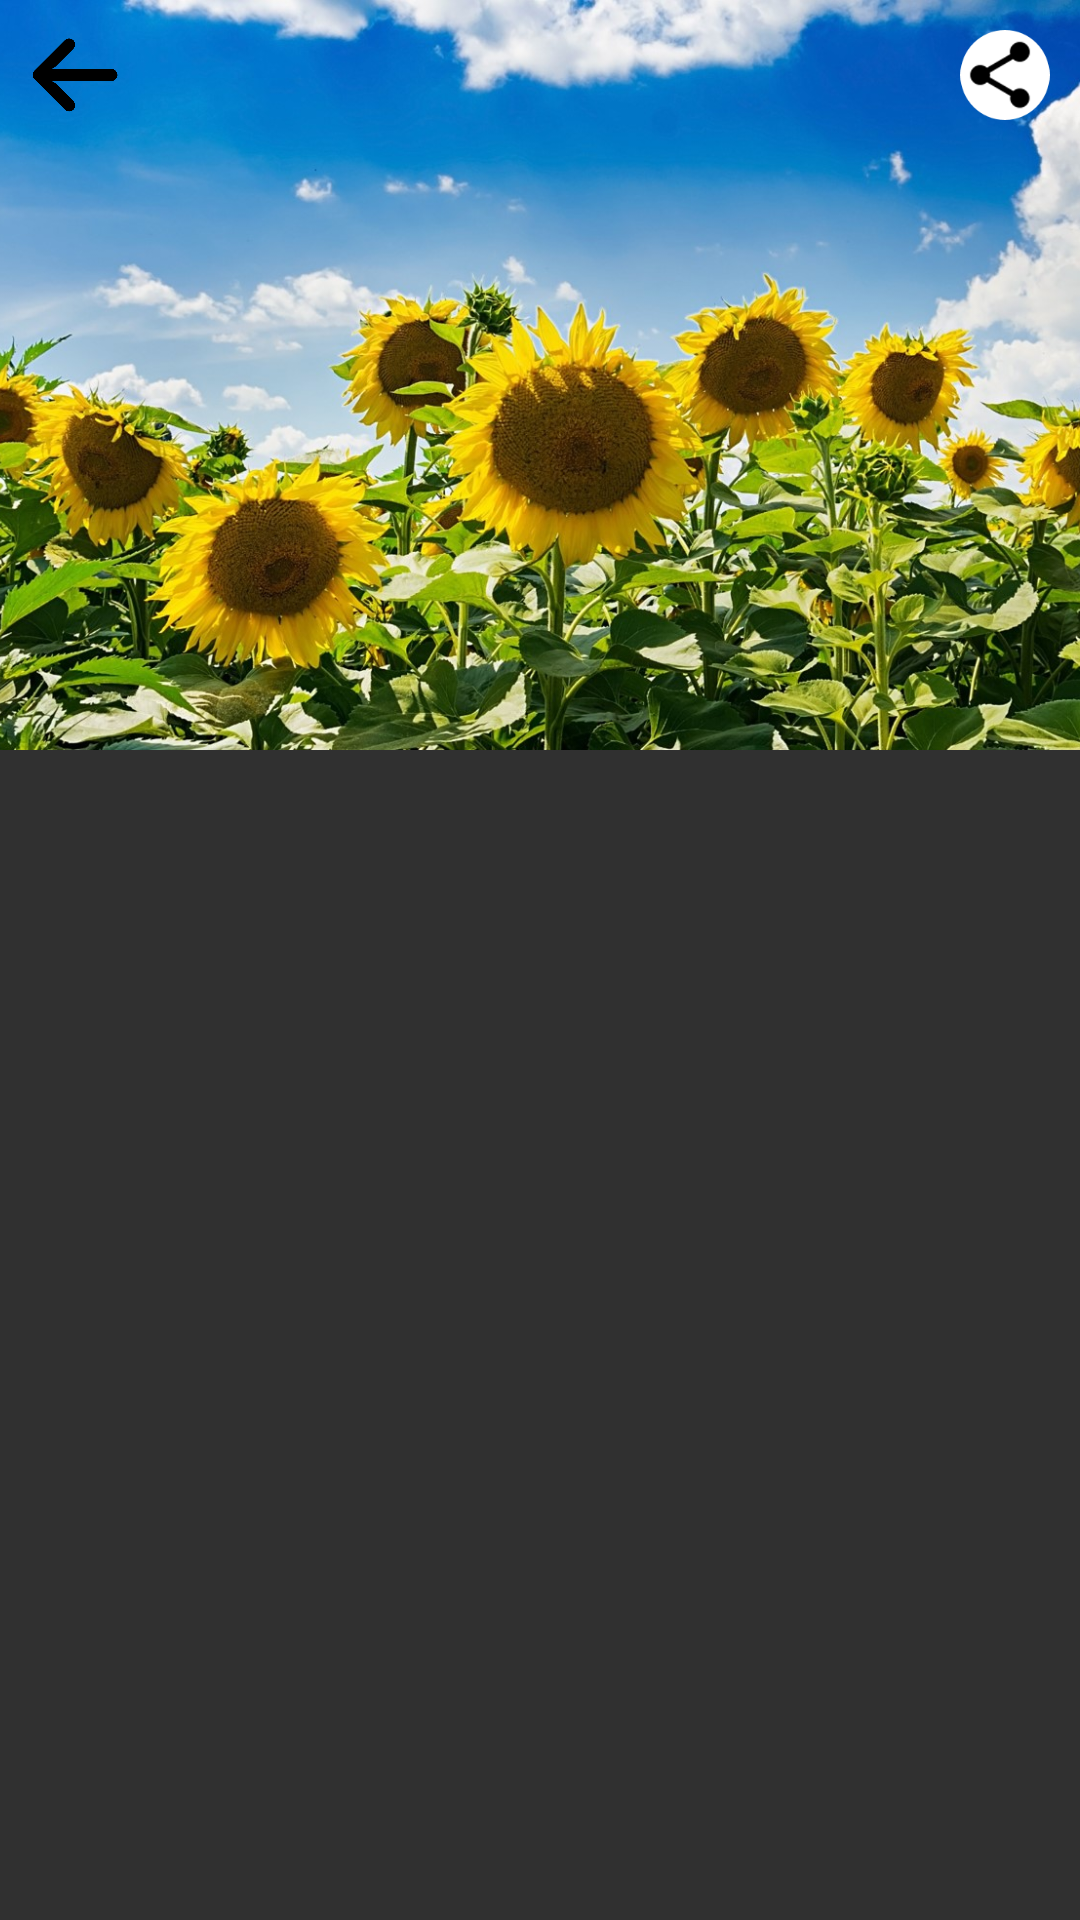

Icons on this 1080×1920 Android screen, each with the point to tap as point (x, y):
arrows: point (75, 75)
share: point (1005, 75)
